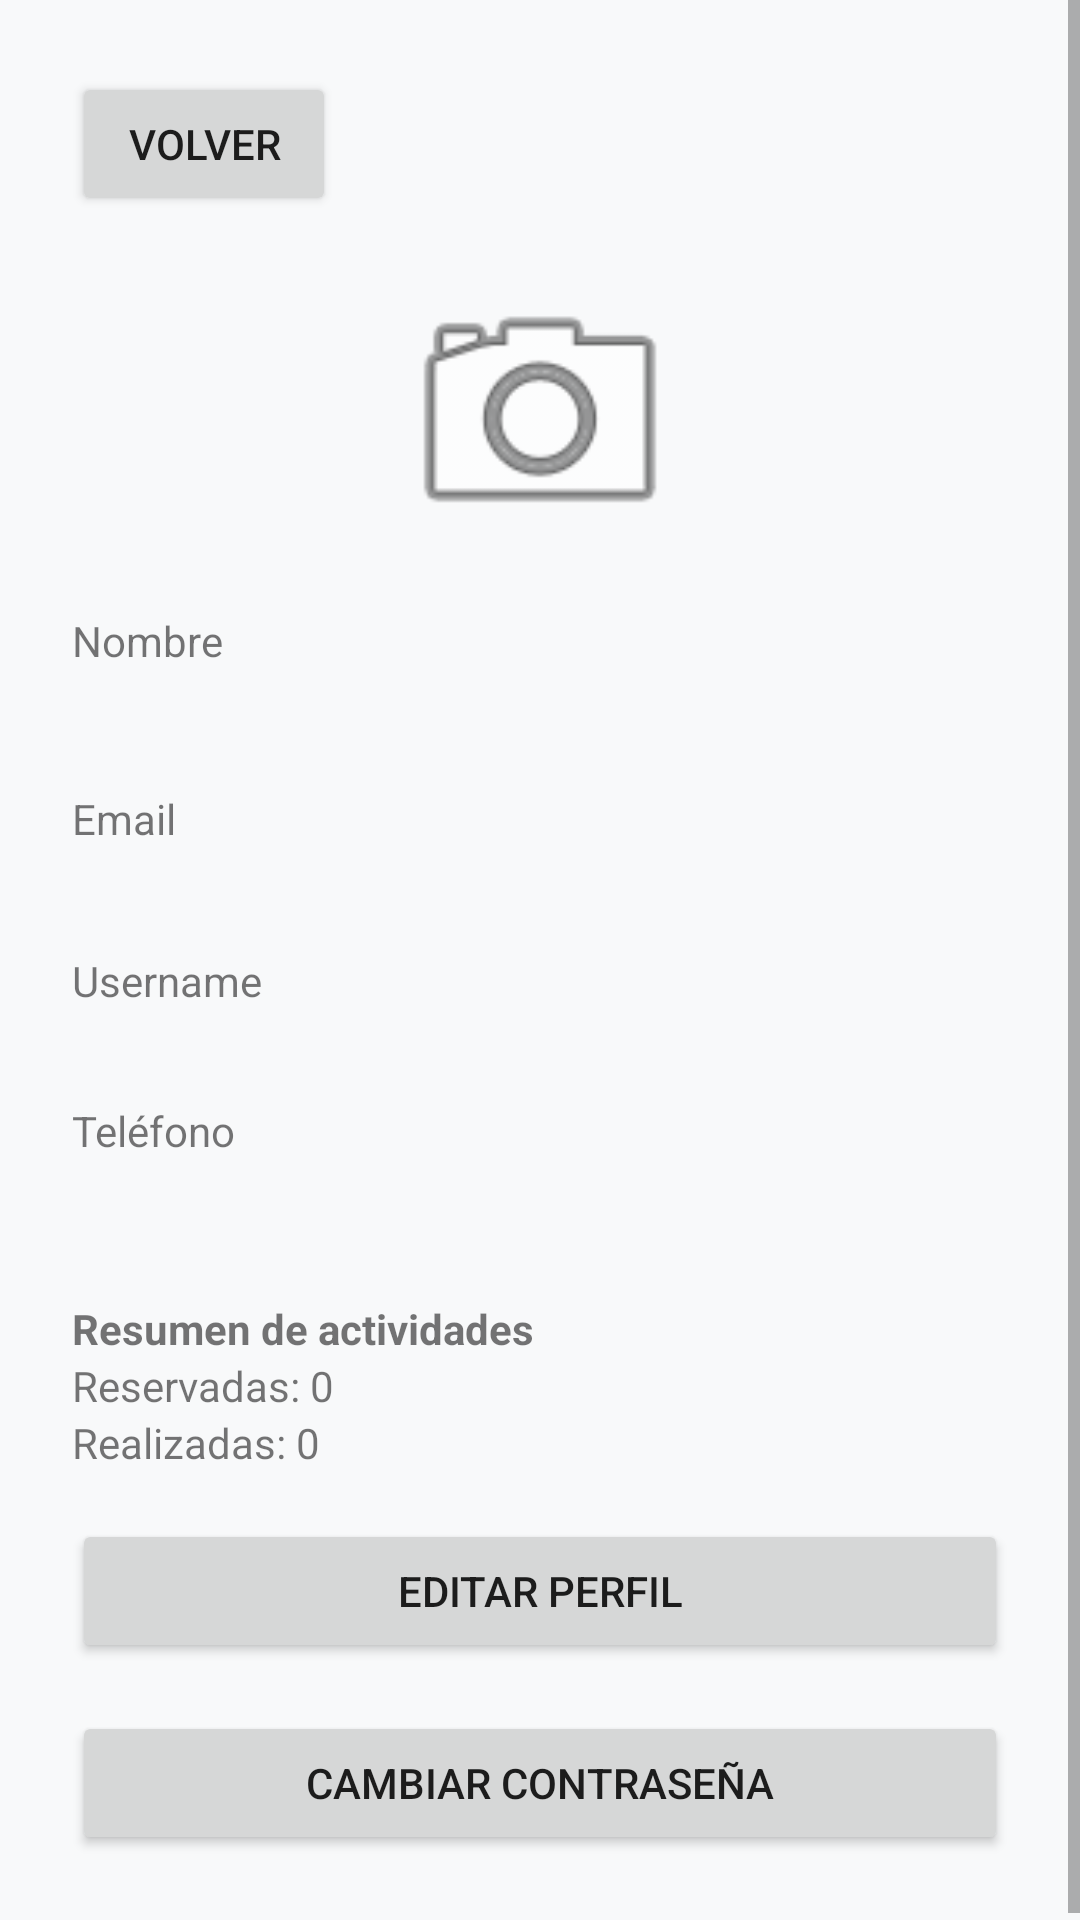

Screen size 1080w x 1920h. Icon name, then its center in pixels as [x,y]:
camera: [540,409]
